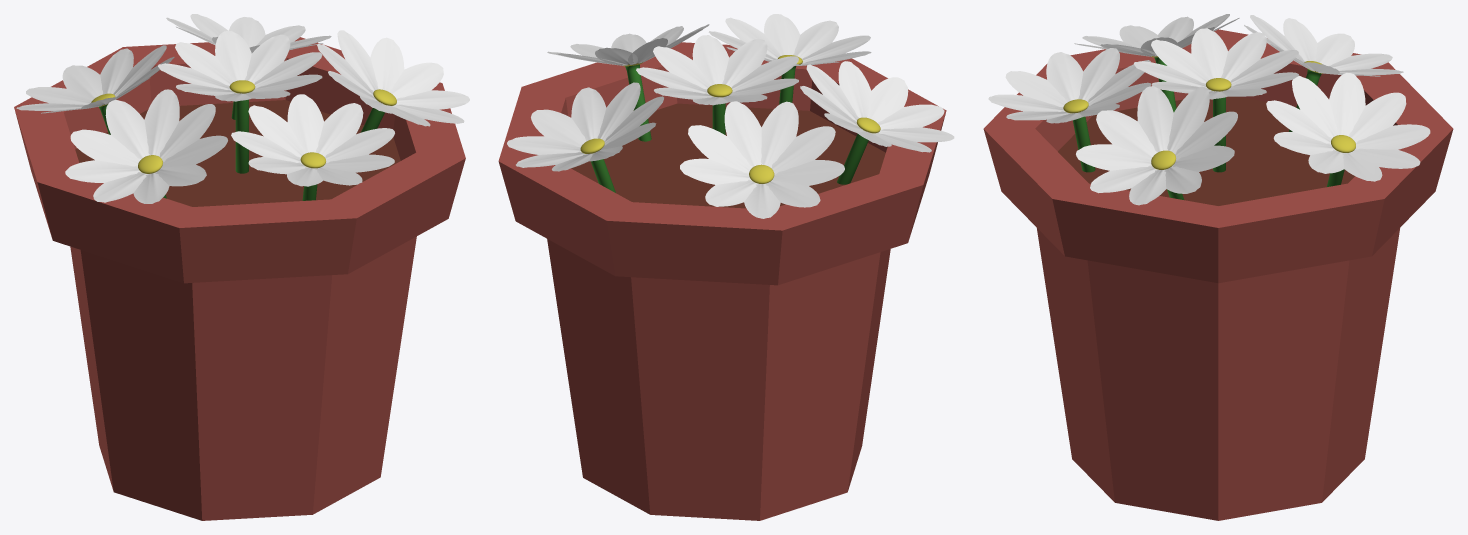
Rendered from Saksı.fbx.
The picture shows the model from 3 angles, left to right: view 1: azimuth 30°, elevation 25°; view 2: azimuth 150°, elevation 25°; view 3: azimuth 270°, elevation 25°; orthographic projection.
Parts seen in each view (by area): view 1: Cylinder, Circle.005, Circle.003, Circle, Circle.008, Circle.006, Circle.010, Circle.001; view 2: Cylinder, Circle.006, Circle.010, Circle, Circle.005, Circle.003, Circle.008, Circle.004; view 3: Cylinder, Circle.008, Circle.010, Circle, Circle.003, Circle.006, Circle.005.
Boxes of the visible parts, x1,y1,x2,y2 form: Cylinder: (14, 37, 465, 520); Circle.005: (65, 89, 227, 203); Circle.003: (231, 94, 394, 186); Circle: (158, 31, 322, 101); Circle.008: (317, 30, 469, 126); Circle.006: (16, 45, 174, 113); Circle.010: (166, 14, 331, 53); Circle.001: (235, 99, 248, 173); Cylinder: (498, 42, 946, 520); Circle.006: (680, 101, 844, 218); Circle.010: (507, 82, 663, 171); Circle: (636, 35, 798, 105); Circle.005: (800, 61, 954, 152); Circle.003: (708, 14, 871, 65); Circle.008: (547, 24, 709, 65); Circle.004: (837, 134, 868, 184); Cylinder: (983, 29, 1453, 520); Circle.008: (1076, 86, 1237, 205); Circle.010: (1266, 73, 1430, 181); Circle: (1134, 28, 1298, 99); Circle.003: (988, 48, 1151, 123); Circle.006: (1244, 15, 1403, 76); Circle.005: (1074, 14, 1239, 56).
Size of the model in its own units: 321 by 306 by 321.
